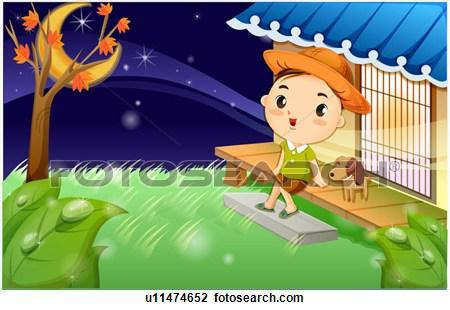dog: (327, 154, 376, 204)
person: (255, 44, 366, 214)
